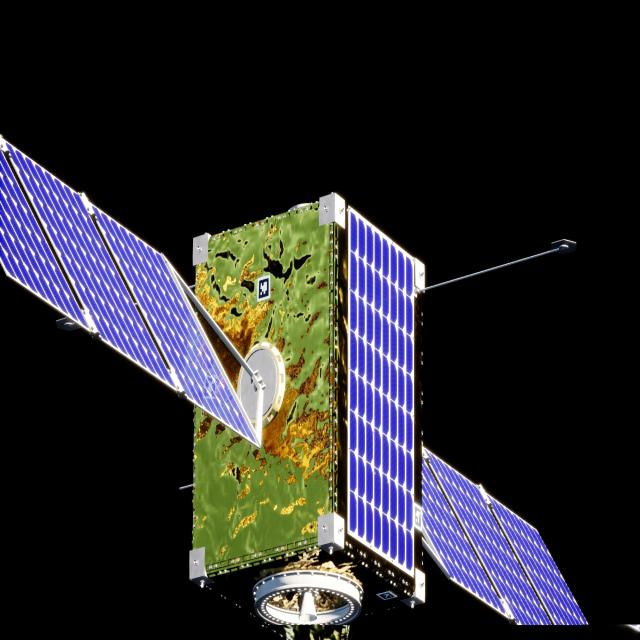satellite: (0, 134, 589, 640)
